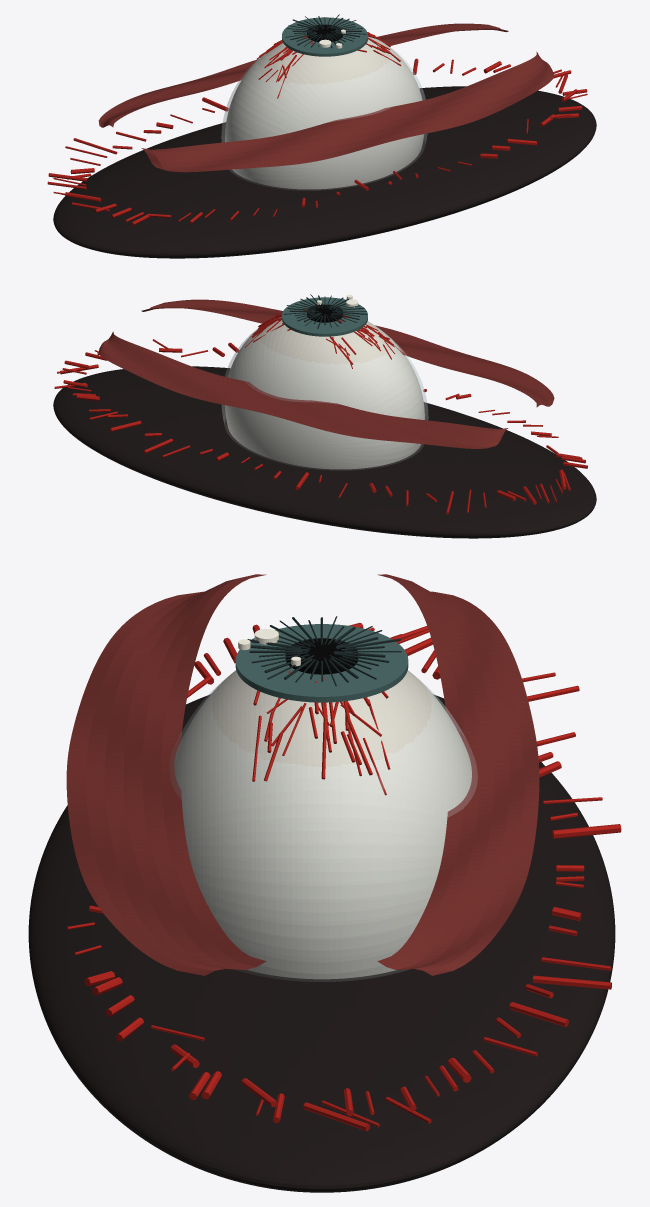
File: horror_eye_better_2_5d_3d 2.glb
3 renders of one model, top to bottom at view 1: azimuth 30°, elevation 25°; view 2: azimuth 150°, elevation 25°; view 3: azimuth 270°, elevation 25°, orthographic. The views are drawn at different scales.
Parts seen in each view (by area): view 1: Deep_Oval_Socket_Shadow, GazePivot_Eyeball_Sclera, GazePivot_Wet_Cornea, Upper_Eyelid, Lower_Eyelid, GazePivot_Iris, GazePivot_Pupil; view 2: Deep_Oval_Socket_Shadow, GazePivot_Eyeball_Sclera, GazePivot_Wet_Cornea, Lower_Eyelid, Upper_Eyelid, GazePivot_Iris, GazePivot_Pupil; view 3: Deep_Oval_Socket_Shadow, GazePivot_Eyeball_Sclera, GazePivot_Wet_Cornea, Upper_Eyelid, Lower_Eyelid, GazePivot_Iris, GazePivot_Pupil.
Part boxes in pixels (x1,y1,x2,y2): Deep_Oval_Socket_Shadow: (53,86,596,258); GazePivot_Eyeball_Sclera: (225,36,424,189); GazePivot_Wet_Cornea: (221,47,427,190); Upper_Eyelid: (141,51,554,172); Lower_Eyelid: (98,23,508,127); GazePivot_Iris: (282,17,367,56); GazePivot_Pupil: (307,24,342,42); Deep_Oval_Socket_Shadow: (53,366,596,538); GazePivot_Eyeball_Sclera: (225,317,424,469); GazePivot_Wet_Cornea: (222,328,428,470); Lower_Eyelid: (98,331,508,448); Upper_Eyelid: (141,299,554,407); GazePivot_Iris: (282,297,367,336); GazePivot_Pupil: (307,304,342,322); Deep_Oval_Socket_Shadow: (28,694,615,1192); GazePivot_Eyeball_Sclera: (174,670,471,979); GazePivot_Wet_Cornea: (169,679,477,981); Upper_Eyelid: (66,574,266,975); Lower_Eyelid: (377,574,539,975); GazePivot_Iris: (235,624,408,702); GazePivot_Pupil: (285,638,358,674).
Bounding box in the file's own units: 3.5 × 1.26 × 1.72.
